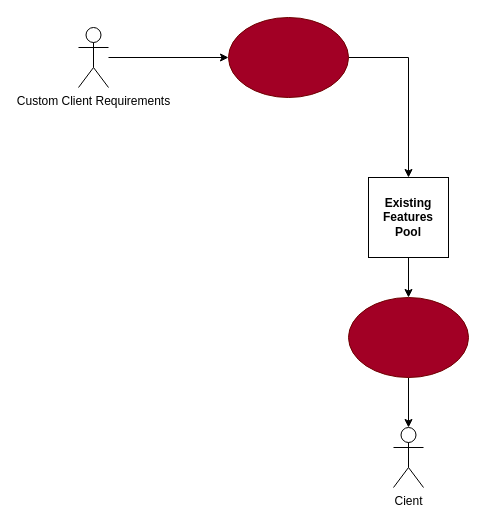
Some shapes in this 486 by 526 pixel diagram are drawn without their labels. Each missing label, with the box of its shape:
Cost of Adding A new Feature: (228, 16, 348, 98)
Cost of Onboarding a new client: (348, 296, 468, 378)
